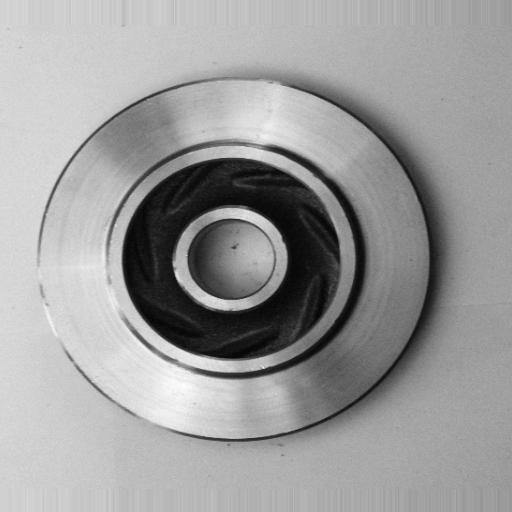scratch: (17, 246, 82, 363), (92, 236, 136, 332)
unpolished_casting: (34, 71, 434, 445)
